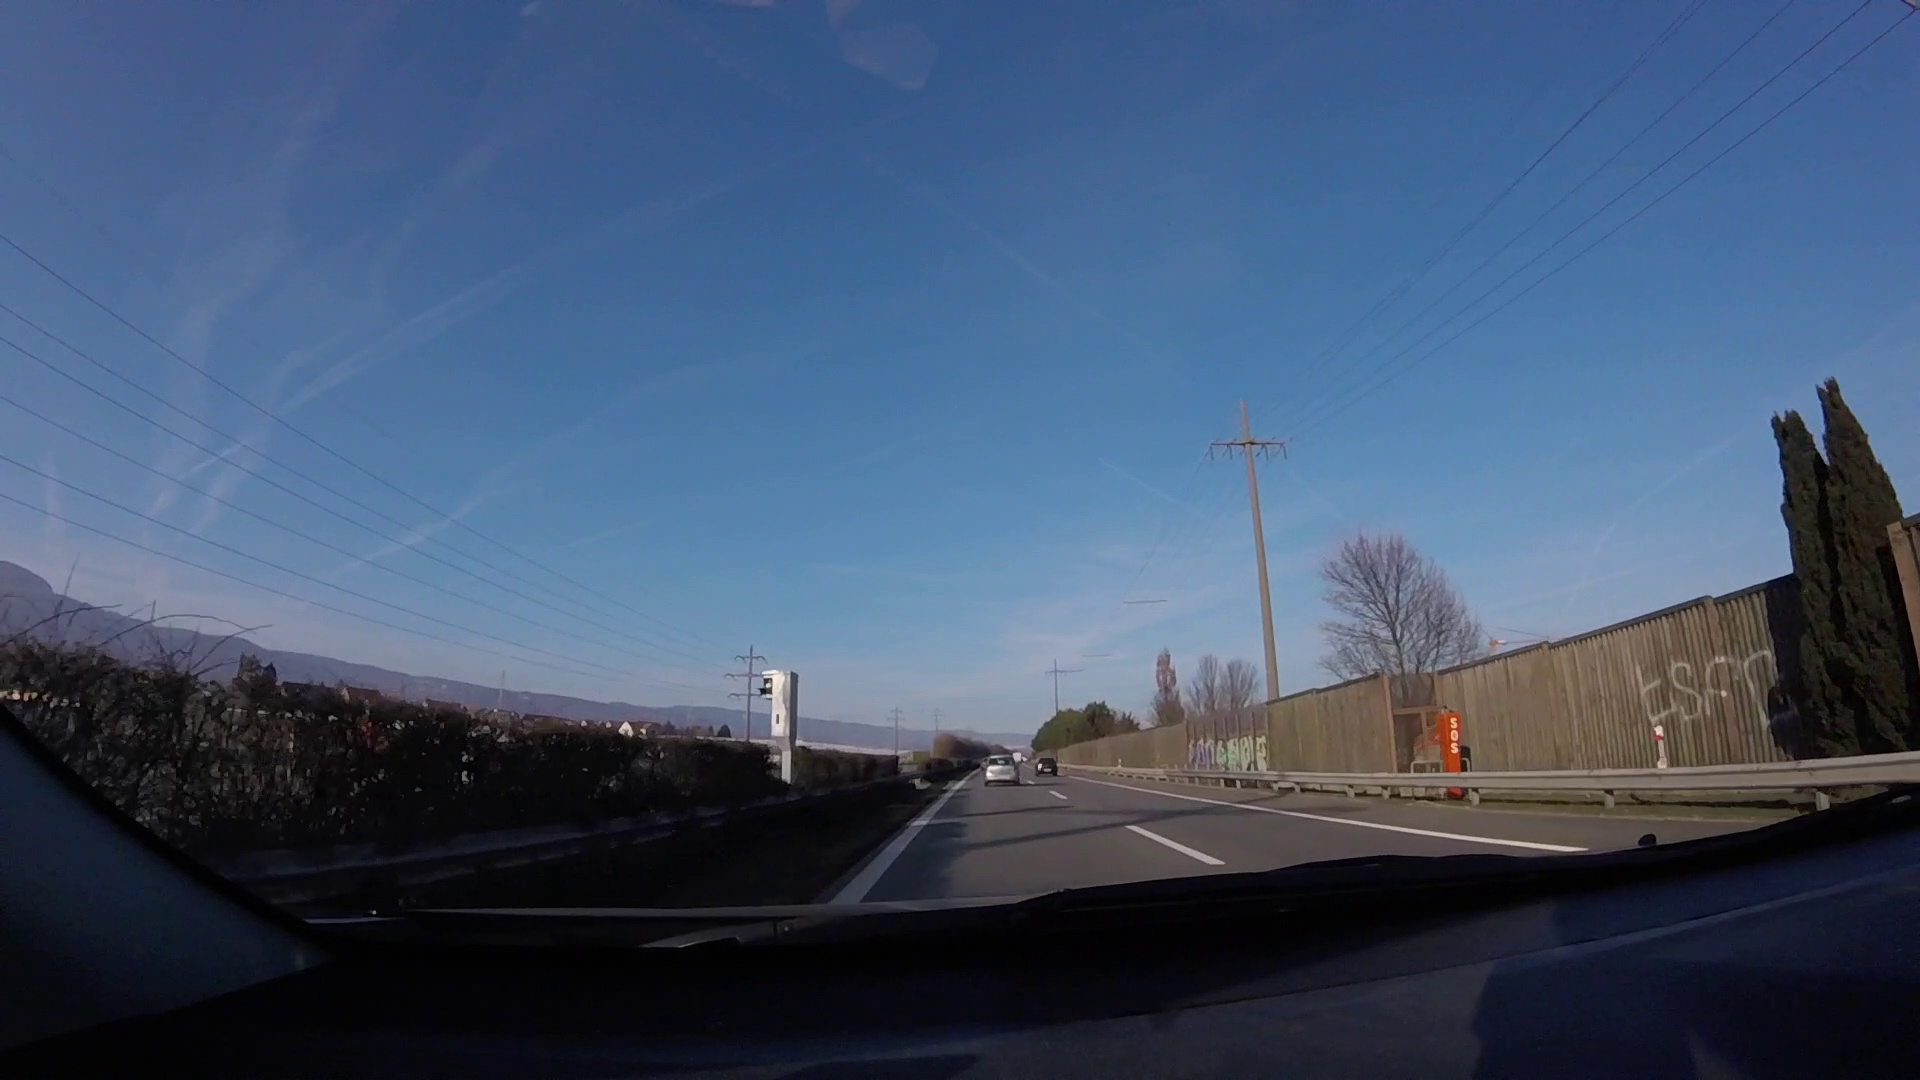radar: (760, 669, 804, 789)
